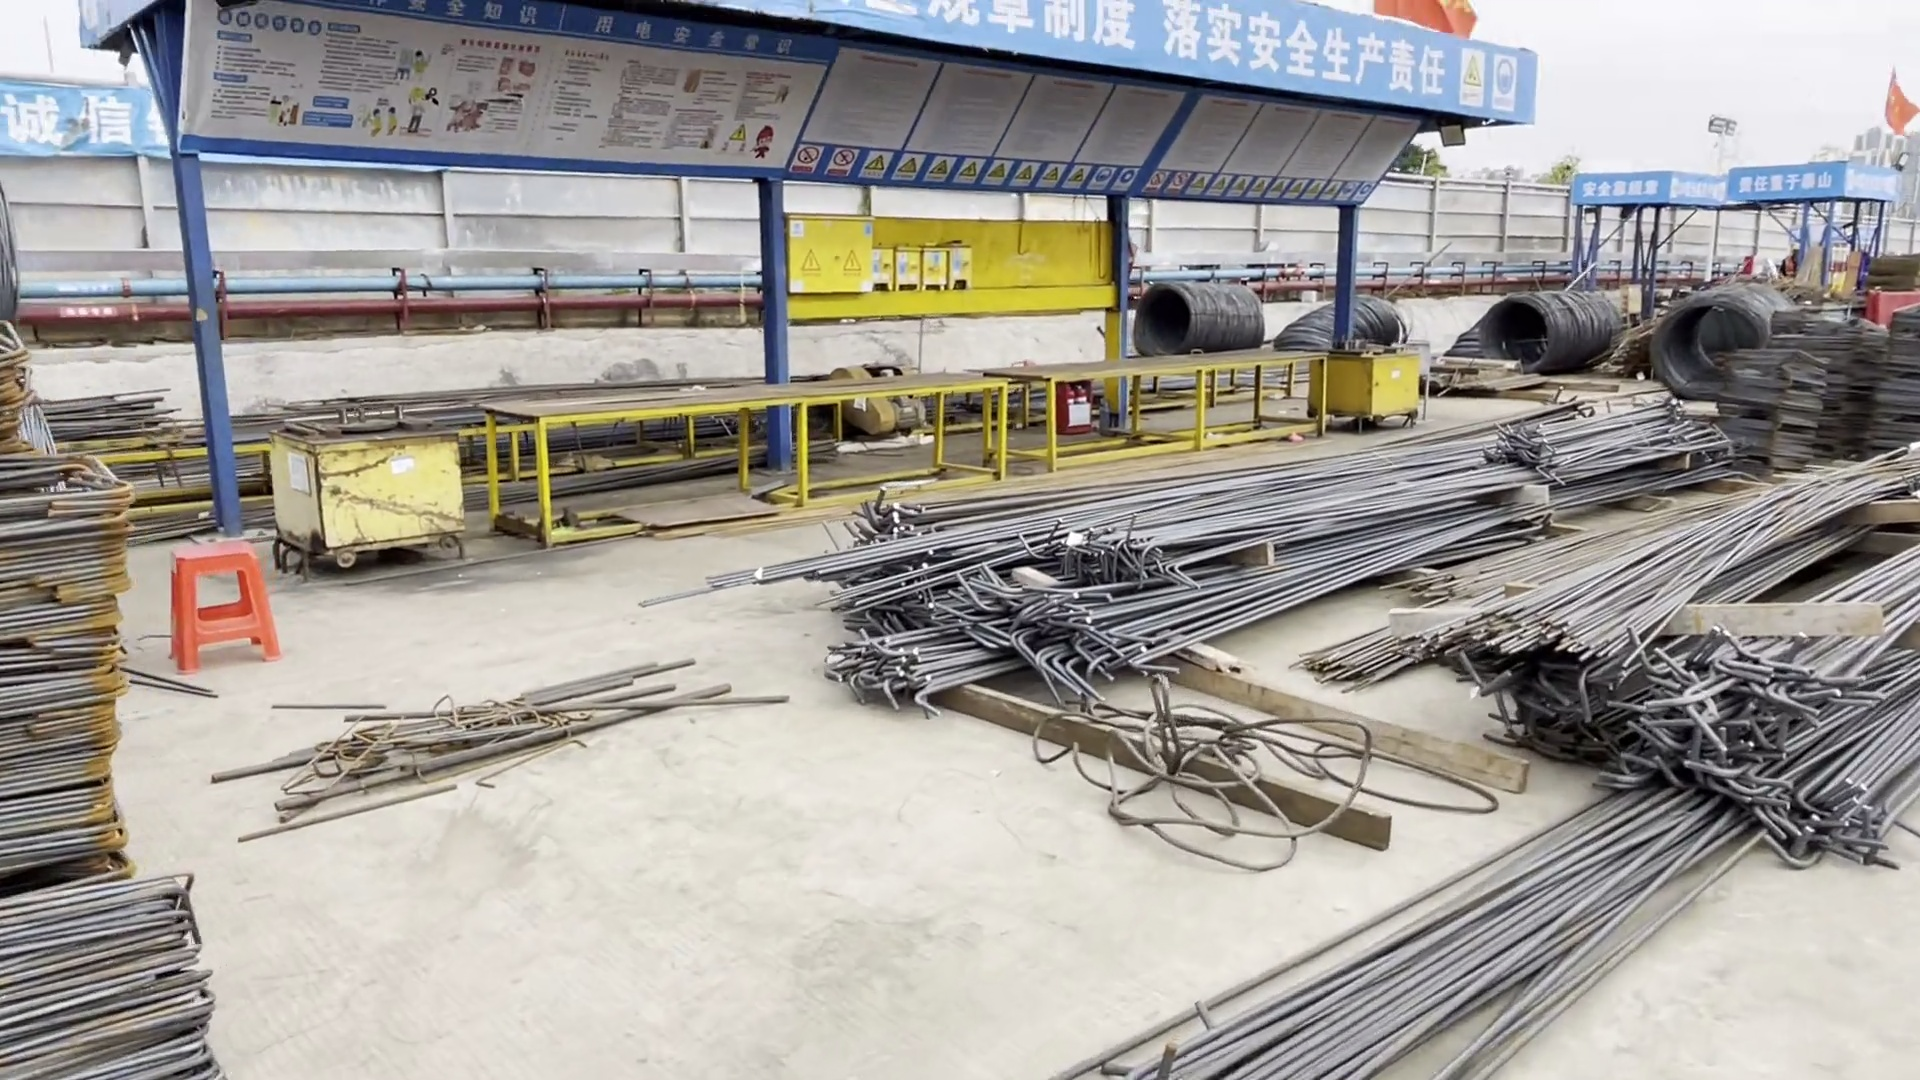cutter: (270, 414, 481, 554), (1317, 340, 1422, 424)
ebox: (788, 213, 873, 294)
person: (1778, 246, 1796, 277)
rebar: (1096, 793, 1752, 1074), (819, 441, 1479, 688), (1470, 436, 1917, 672), (1556, 661, 1909, 854), (1497, 403, 1712, 468), (1319, 618, 1424, 672)
slogan: (174, 2, 792, 169), (841, 1, 1537, 129), (789, 151, 1384, 197), (3, 86, 170, 158), (1563, 165, 1885, 201)
